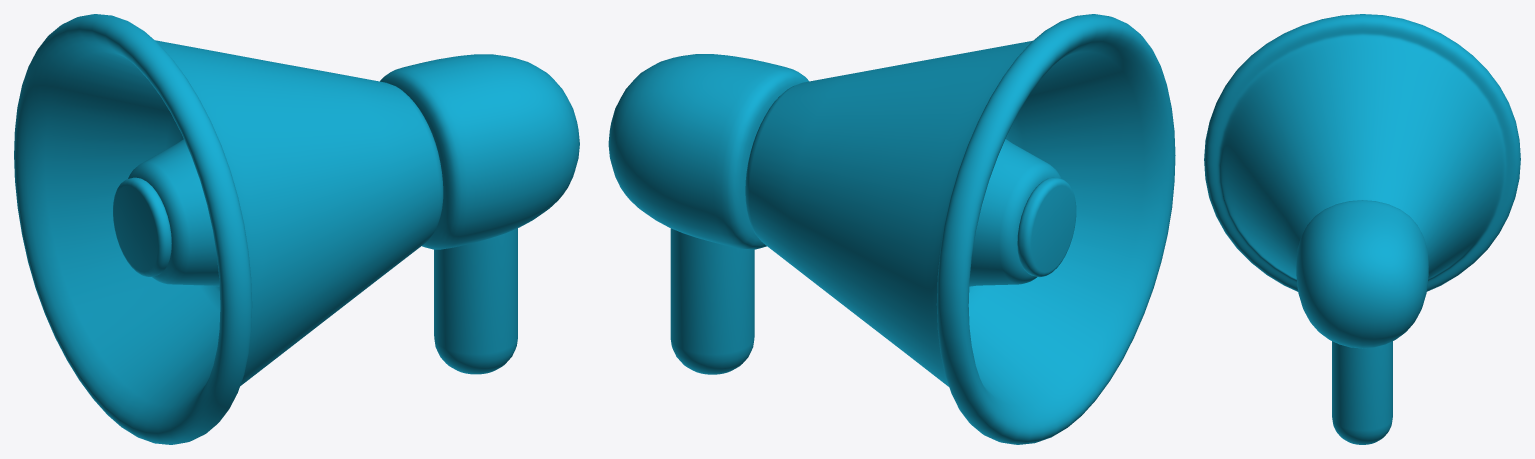
Rendered from Cartoon_Lovely_Megaphone_1.glb.
The picture shows the model from 3 angles, left to right: view 1: azimuth 30°, elevation 25°; view 2: azimuth 150°, elevation 25°; view 3: azimuth 270°, elevation 25°; orthographic projection. The views are drawn at different scales.
Visible parts, largest first — view 1: unnamed (×4); view 2: unnamed (×4); view 3: unnamed (×3).
Boxes of the visible parts, <box> form: unnamed (×4): <box>14,14,579,444</box>; unnamed (×4): <box>608,14,1175,444</box>; unnamed (×3): <box>1204,14,1520,444</box>.
Bounding box in the file's own units: 2.94 × 2.65 × 2.5.
